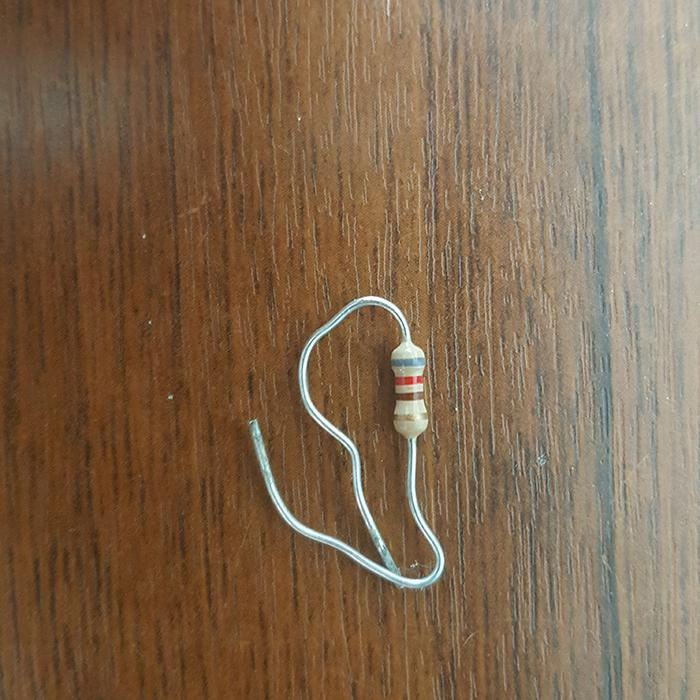resistor: (389, 339, 429, 438)
